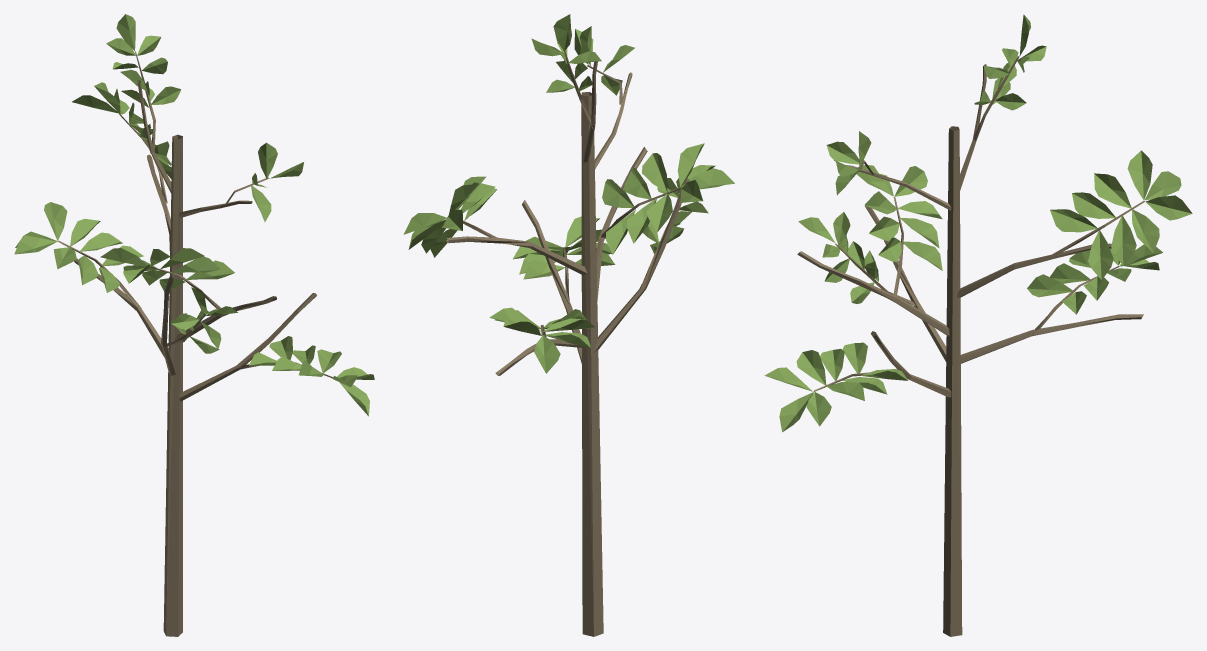
The model's file is Peach_2_1.fbx.
3 views of the same model, side by side, from view 1: azimuth 30°, elevation 25°; view 2: azimuth 150°, elevation 25°; view 3: azimuth 270°, elevation 25° (orthographic). The views are drawn at different scales.
Parts seen in each view (by area): view 1: Peach_2_1; view 2: Peach_2_1; view 3: Peach_2_1.
Boxes of the visible parts, x1,y1,x2,y2 form: Peach_2_1: [14, 14, 374, 636]; Peach_2_1: [403, 14, 734, 636]; Peach_2_1: [764, 14, 1192, 636].
Bounding box in the file's own units: 91.58 × 233 × 148.
